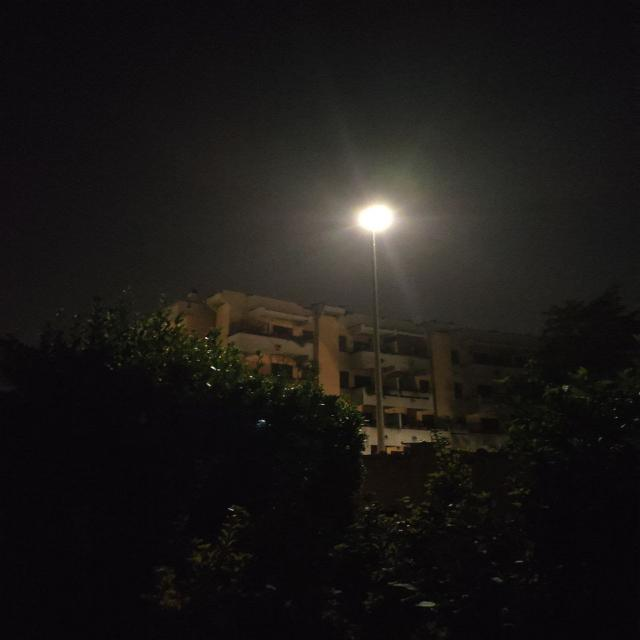lampione: (355, 199, 402, 239)
